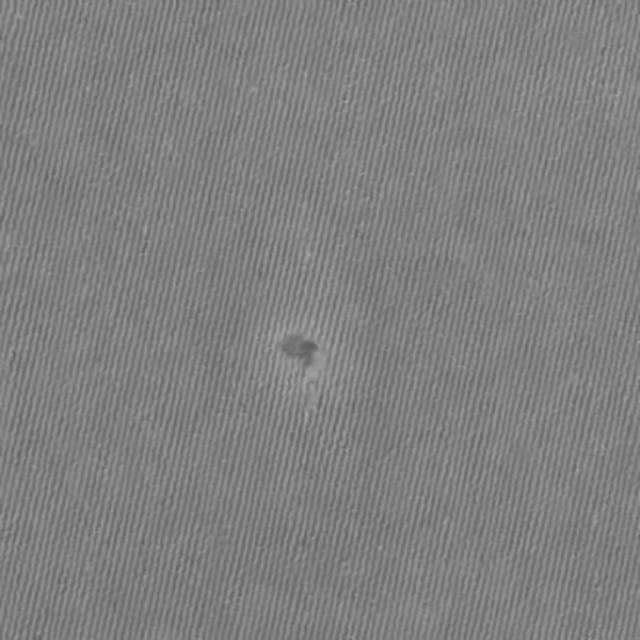other: (238, 291, 394, 443)
